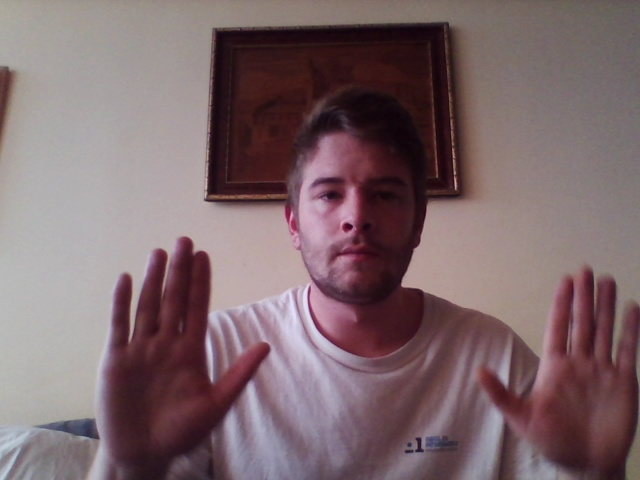prekrasno: (94, 234, 640, 463)
